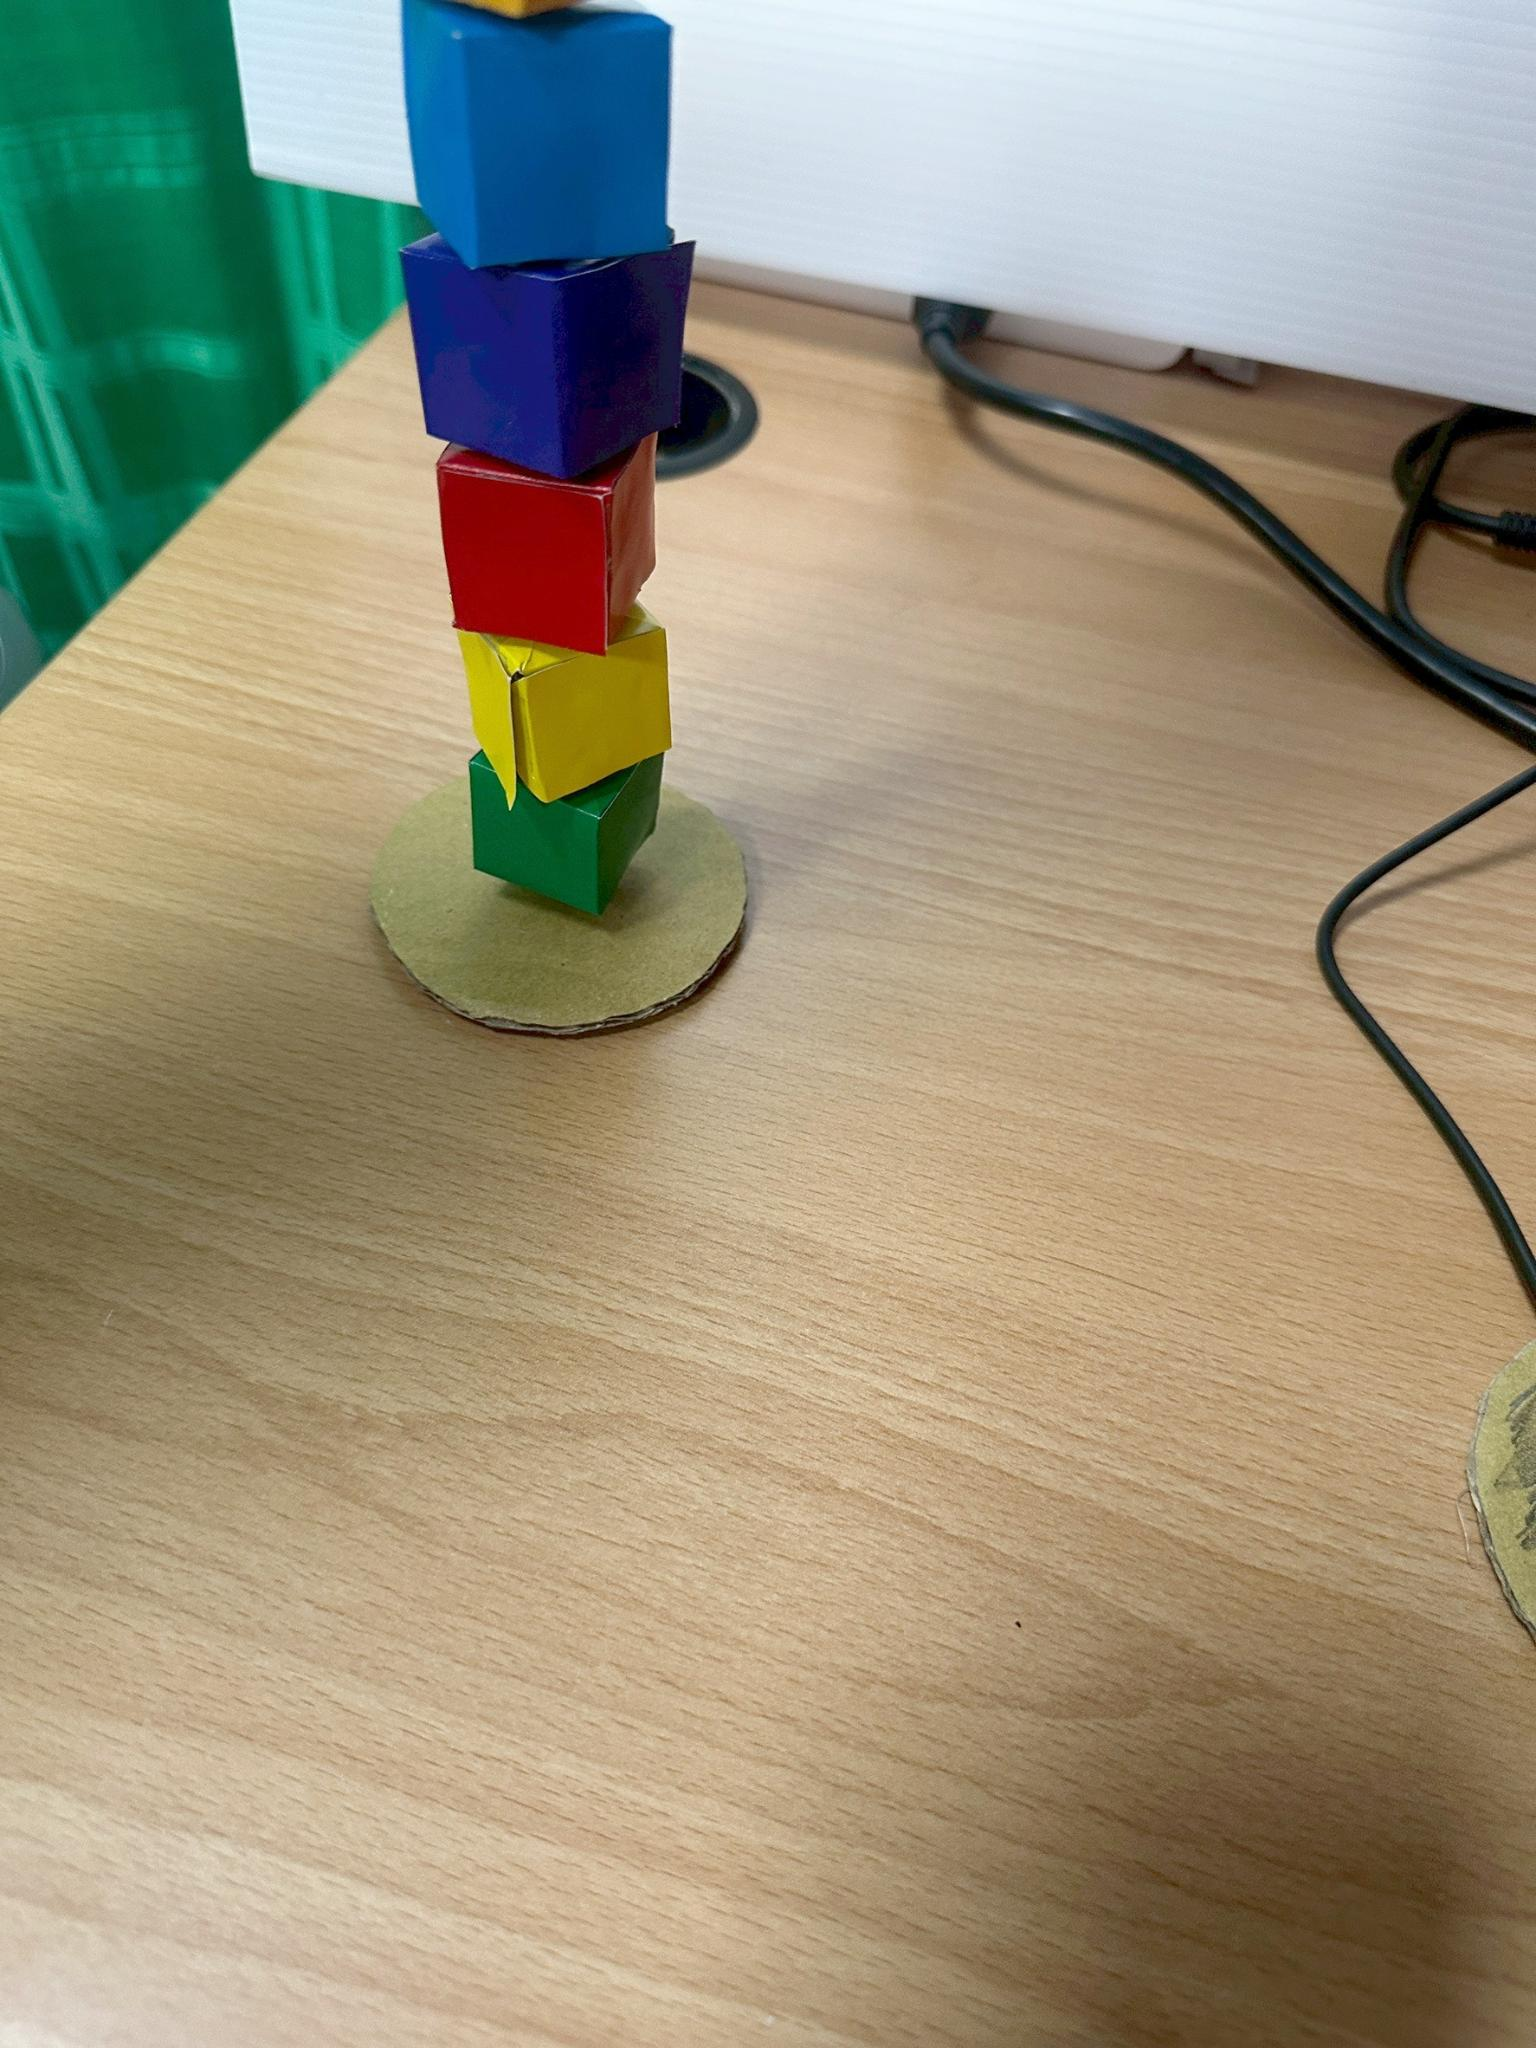base: (369, 776, 745, 1035)
